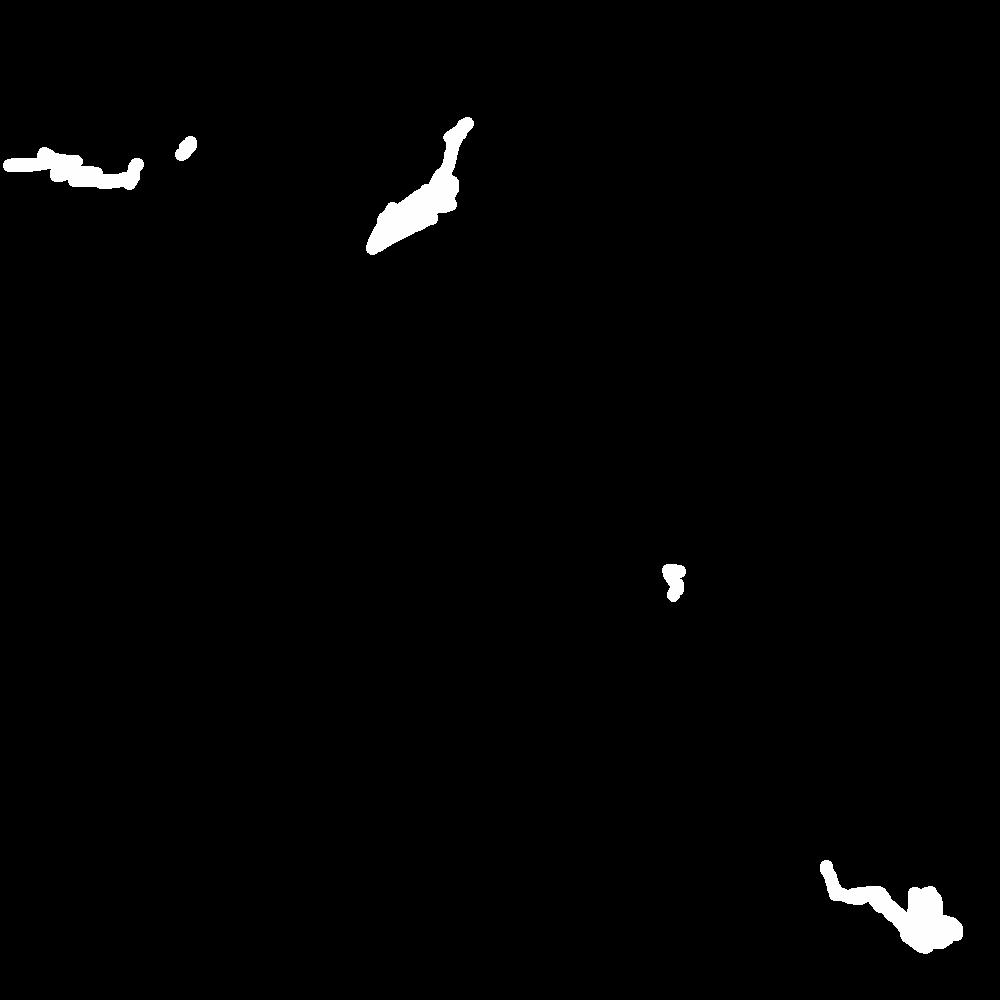illegal: (358, 115, 476, 270), (823, 859, 960, 964), (10, 139, 202, 197), (811, 326, 971, 356)
